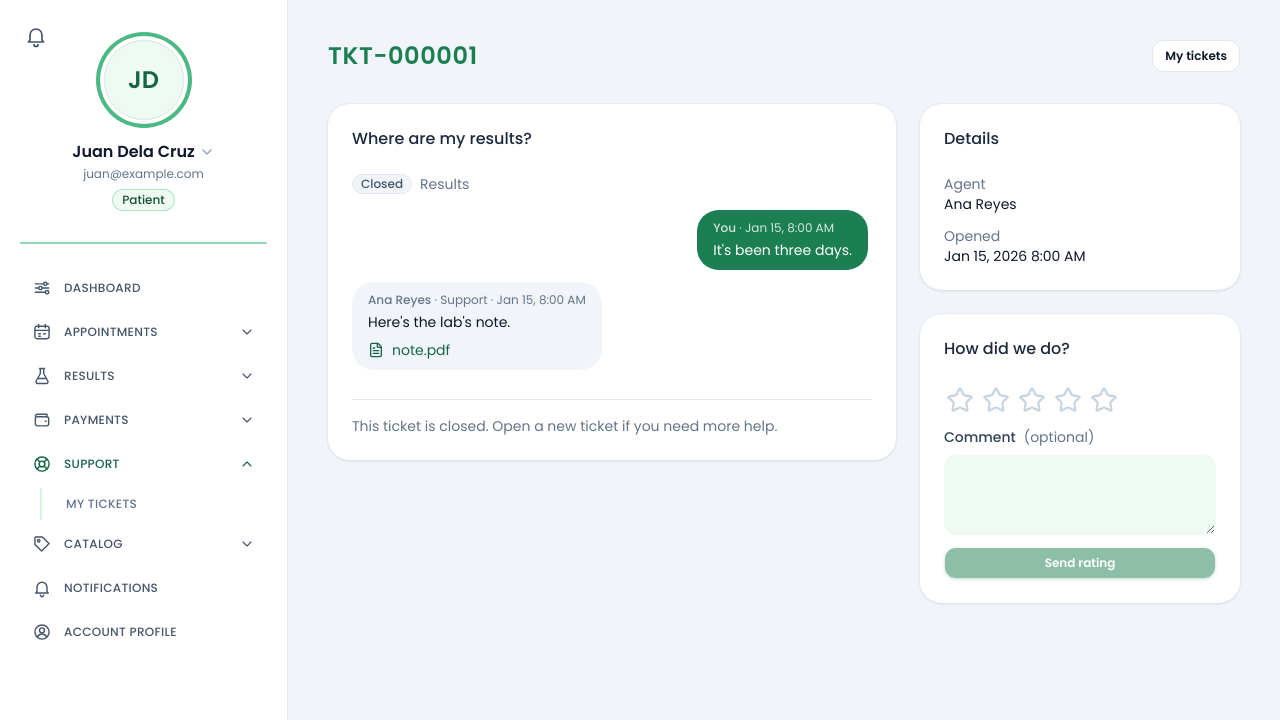
Test: Ticket page › takes the patient's rating once the ticket is closed
The image size is (1280, 720).
Expected: the text "Open a new ticket if you need more help" is shown, [489,416,777,436]
Click the radio button named "5 stars": (1104,400) [1088,384,1120,416]
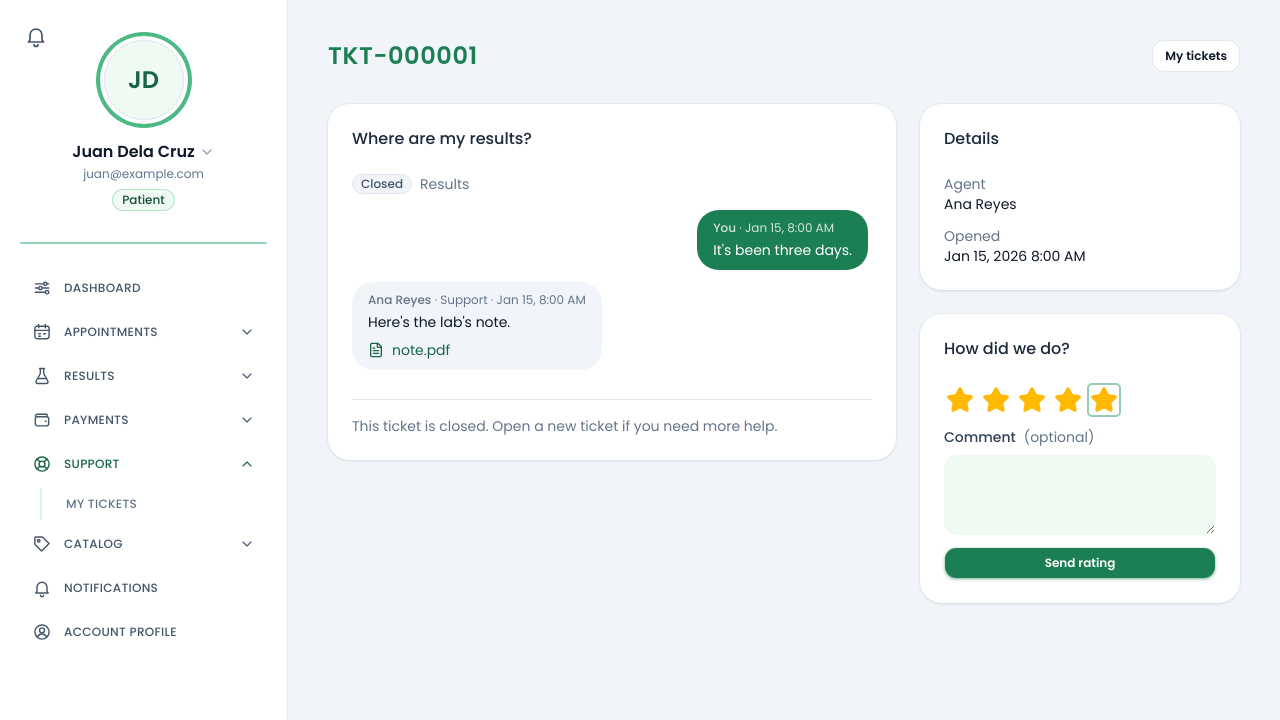
In the text box labelled "Comment (optional)": (1080,495) [944,455,1216,535], type "Quick help"
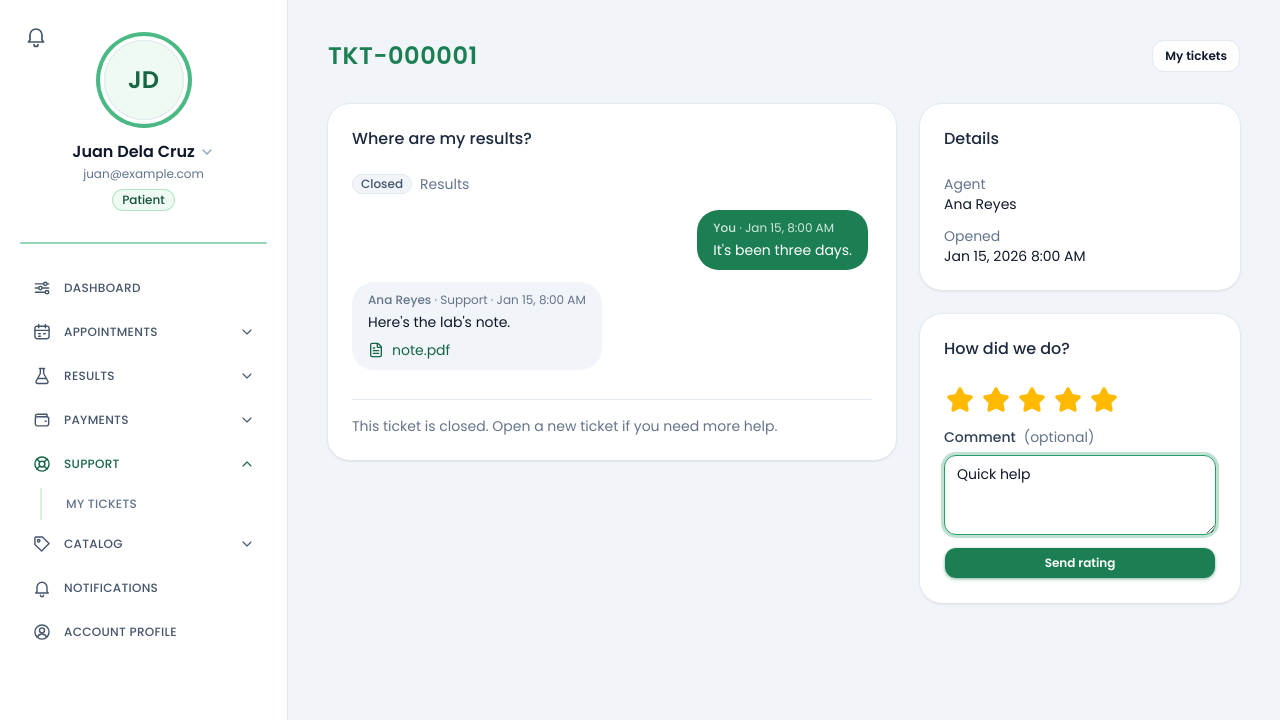
Click the button "Send rating": (1080,563) [944,547,1216,579]
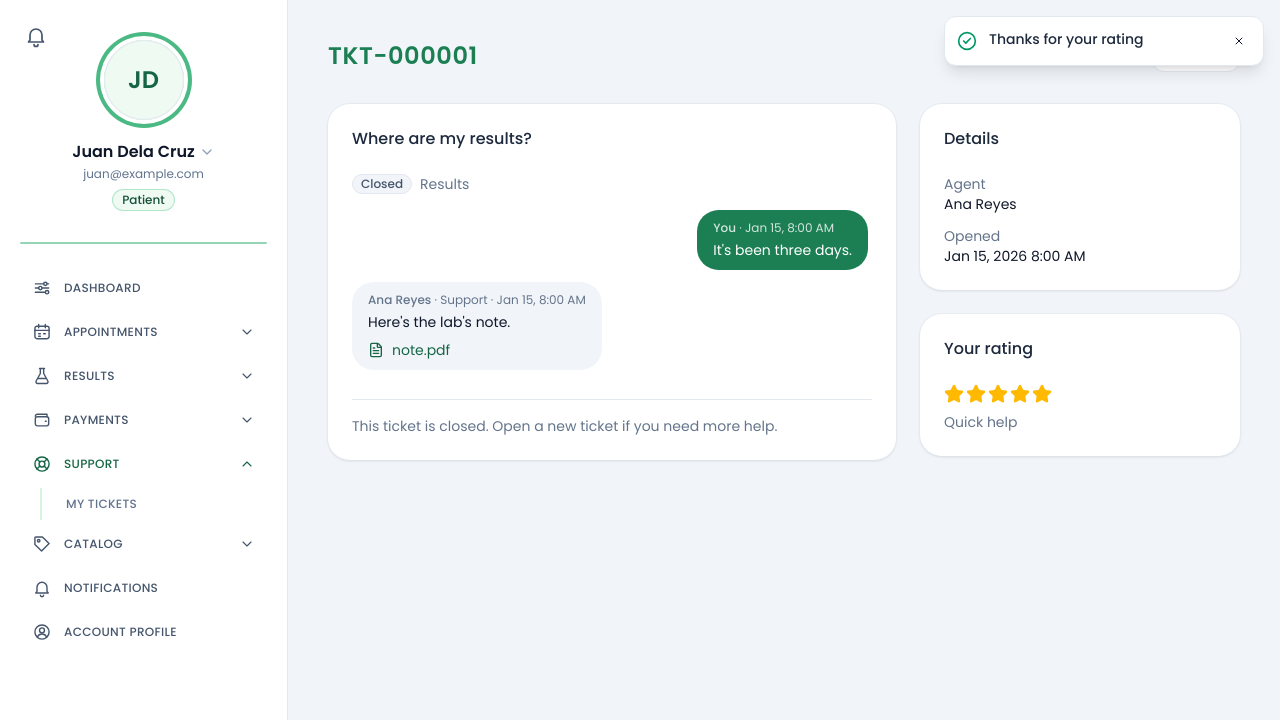
Now the text "Thanks for your rating" is shown, box [989,29,1144,49]
Now the element named "5 out of 5 stars" is shown, box [944,384,1052,404]
